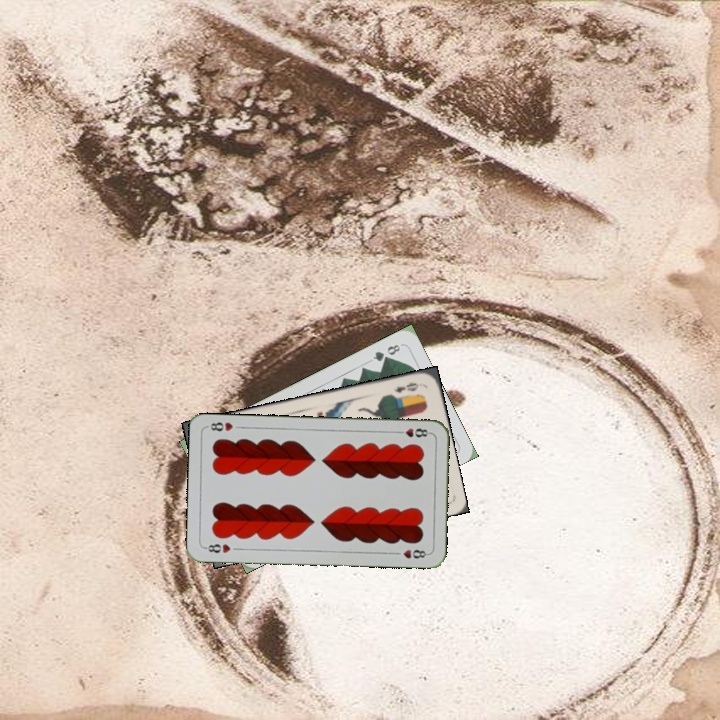EO: (385, 378, 424, 399)
G8: (369, 340, 403, 364)
H8: (393, 424, 433, 440), (201, 540, 233, 555)
